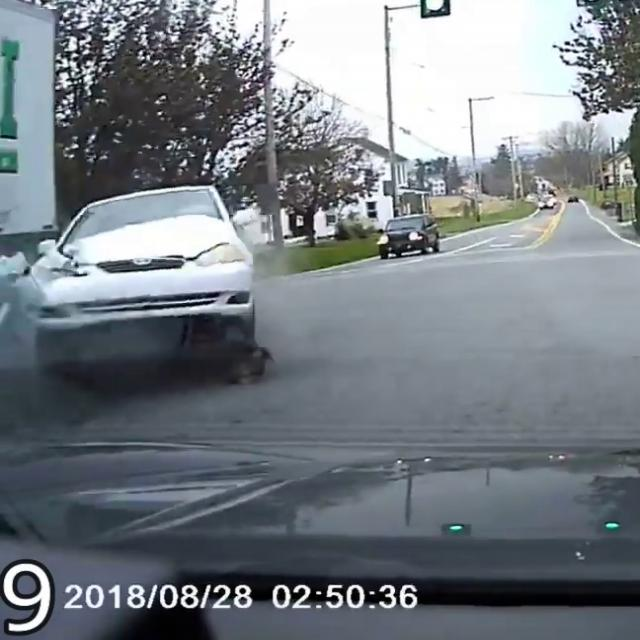accident: (0, 196, 284, 391)
